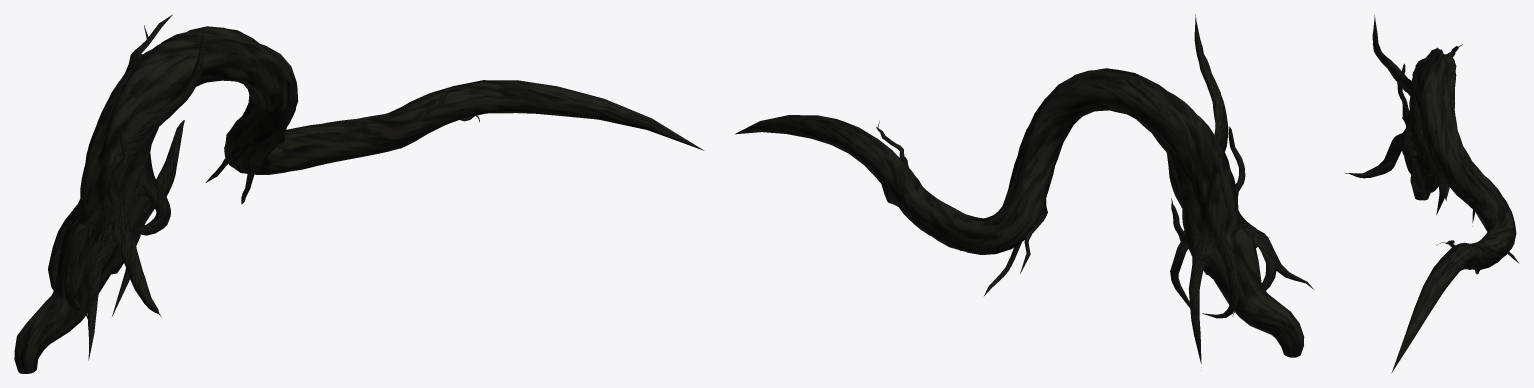
3 views of the same model, side by side, from view 1: azimuth 30°, elevation 25°; view 2: azimuth 150°, elevation 25°; view 3: azimuth 270°, elevation 25° (orthographic). The views are drawn at different scales.
Visible parts, largest first — view 1: SM_SwampVines_03_LOD0; view 2: SM_SwampVines_03_LOD0; view 3: SM_SwampVines_03_LOD0.
Part boxes in pixels (bbox=[...]): SM_SwampVines_03_LOD0: bbox=[14, 14, 704, 373]; SM_SwampVines_03_LOD0: bbox=[735, 14, 1313, 367]; SM_SwampVines_03_LOD0: bbox=[1344, 15, 1519, 372].
Bounding box in the file's own units: 20.26 × 9.9 × 6.5.
Materials: 1 (1 with a texture image).
